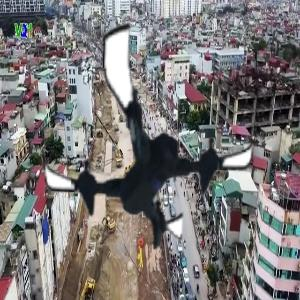drone: (32, 22, 266, 256)
